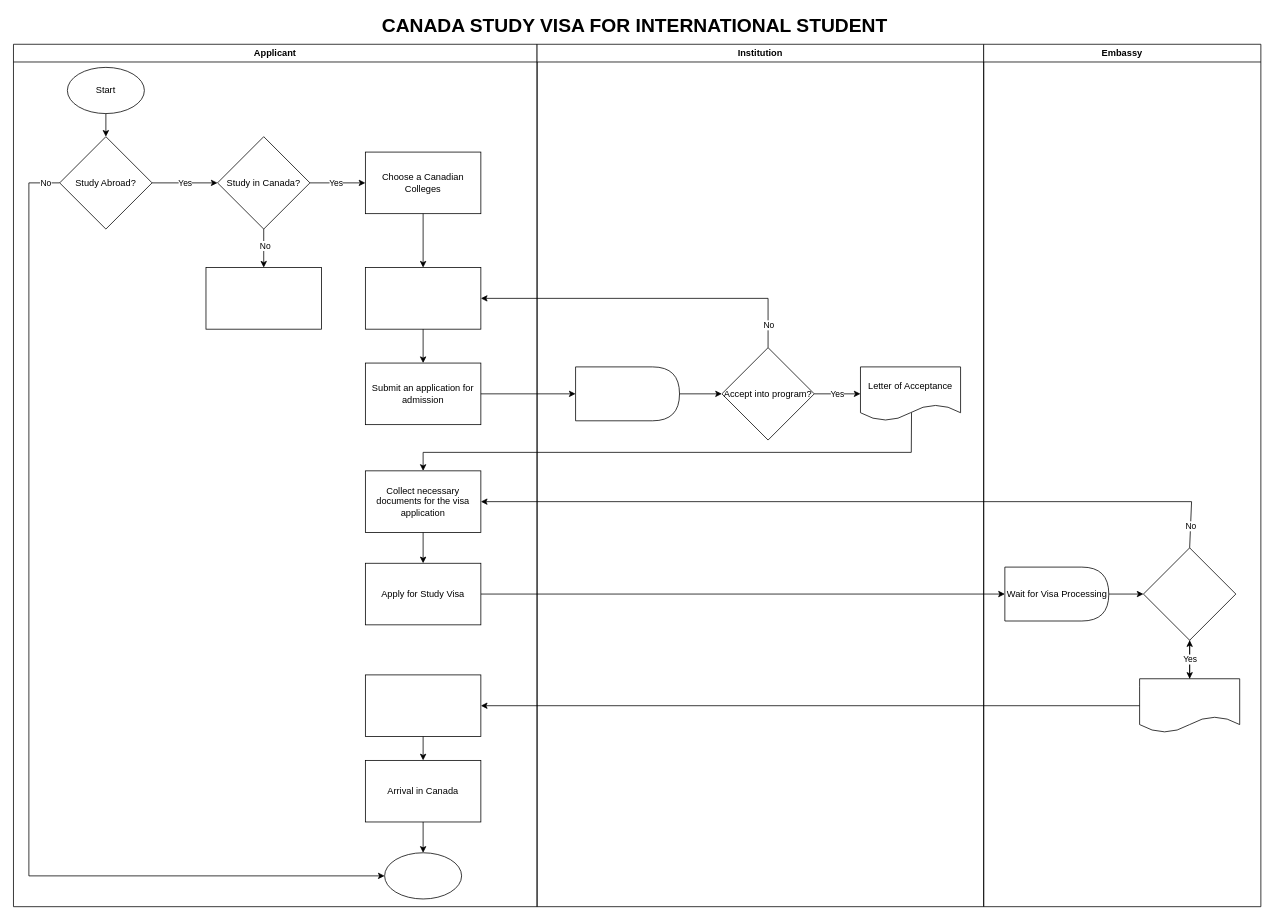
Some shapes in this 1274 by 920 pixel diagram are drawn without their labels. The centre of each missing label's shape, as x and y in pixels:
"Accept Study Visa?" belongs at pixel 1189 593.
"Book Flight and Accommodations" belongs at pixel 423 705.
"Choose a specific program" belongs at pixel 423 298.
"End" belongs at pixel 423 875.
"Research on other countries" belongs at pixel 263 298.
"Study Visa" belongs at pixel 1189 705.
"Wait the Letter of Acceptance" belongs at pixel 627 393.
